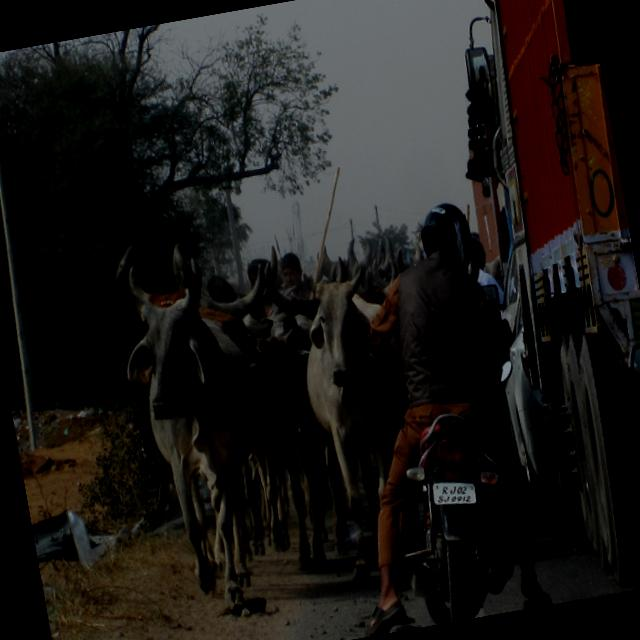Vehicle: (442, 0, 640, 601), (374, 397, 530, 629), (489, 293, 564, 507), (610, 261, 640, 583)
